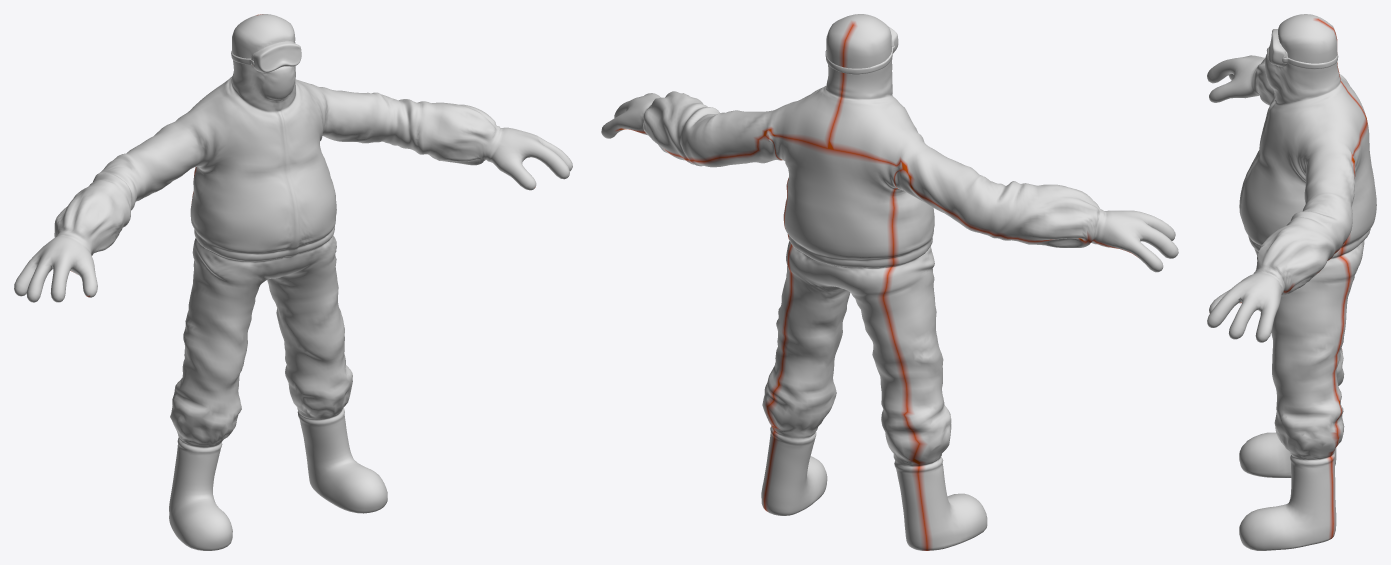
File: FactoryWorkerNormal.fbx
3 renders of one model, left to right at view 1: azimuth 30°, elevation 25°; view 2: azimuth 150°, elevation 25°; view 3: azimuth 270°, elevation 25°, orthographic. The views are drawn at different scales.
Parts seen in each view (by area): view 1: factoryworkerLOWRES; view 2: factoryworkerLOWRES; view 3: factoryworkerLOWRES.
Part boxes in pixels (left/top/right/bottom): factoryworkerLOWRES: left=14, top=14, right=572, bottom=550; factoryworkerLOWRES: left=601, top=14, right=1178, bottom=550; factoryworkerLOWRES: left=1207, top=14, right=1376, bottom=550.
Size of the model in its own units: 204 by 176 by 55.39.
